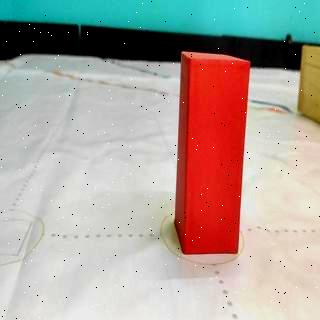redbox: (176, 52, 250, 253)
